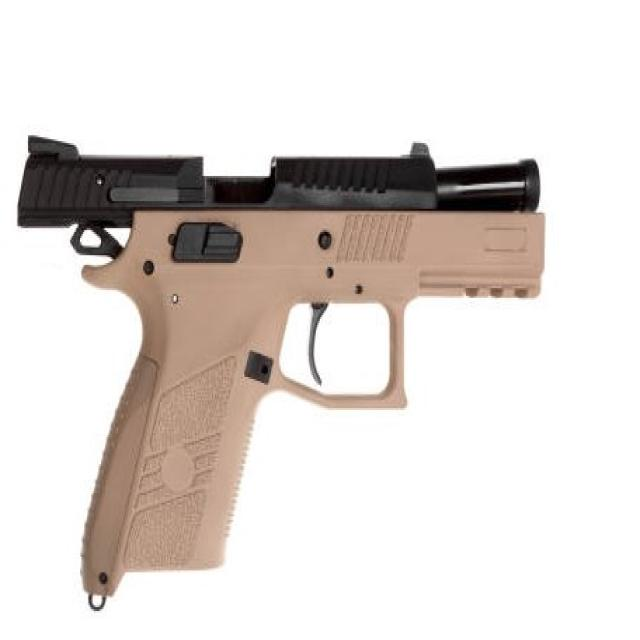pistol: (12, 125, 555, 627)
